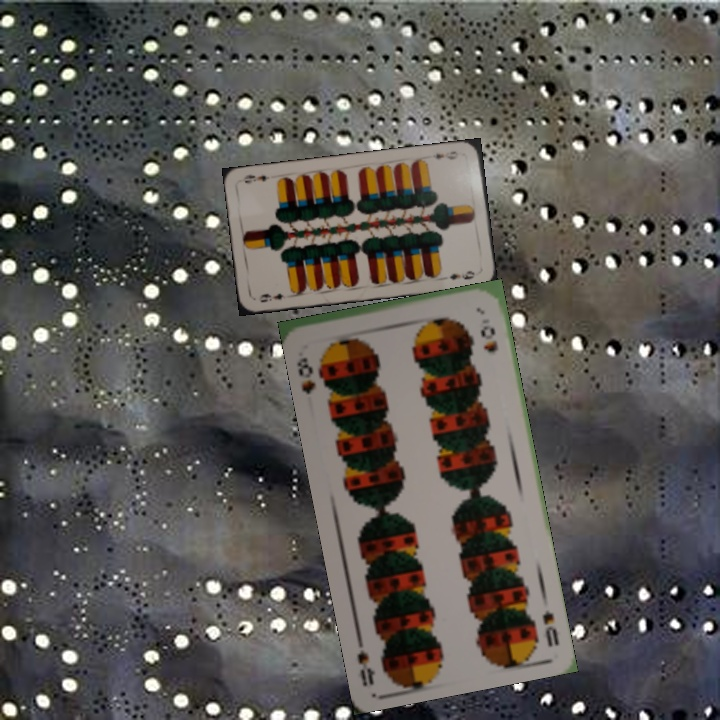E9: (254, 289, 288, 305), (428, 147, 461, 162)
S8: (292, 353, 318, 397), (538, 606, 561, 649)
